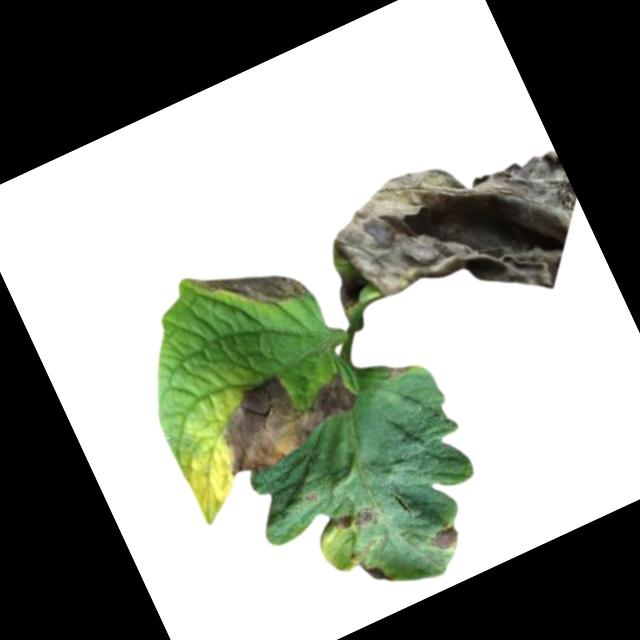Early_blight: (302, 111, 607, 373), (200, 346, 368, 485), (192, 236, 310, 337), (332, 500, 382, 541), (356, 550, 393, 590), (424, 520, 465, 556), (384, 359, 412, 382), (302, 489, 322, 507)
